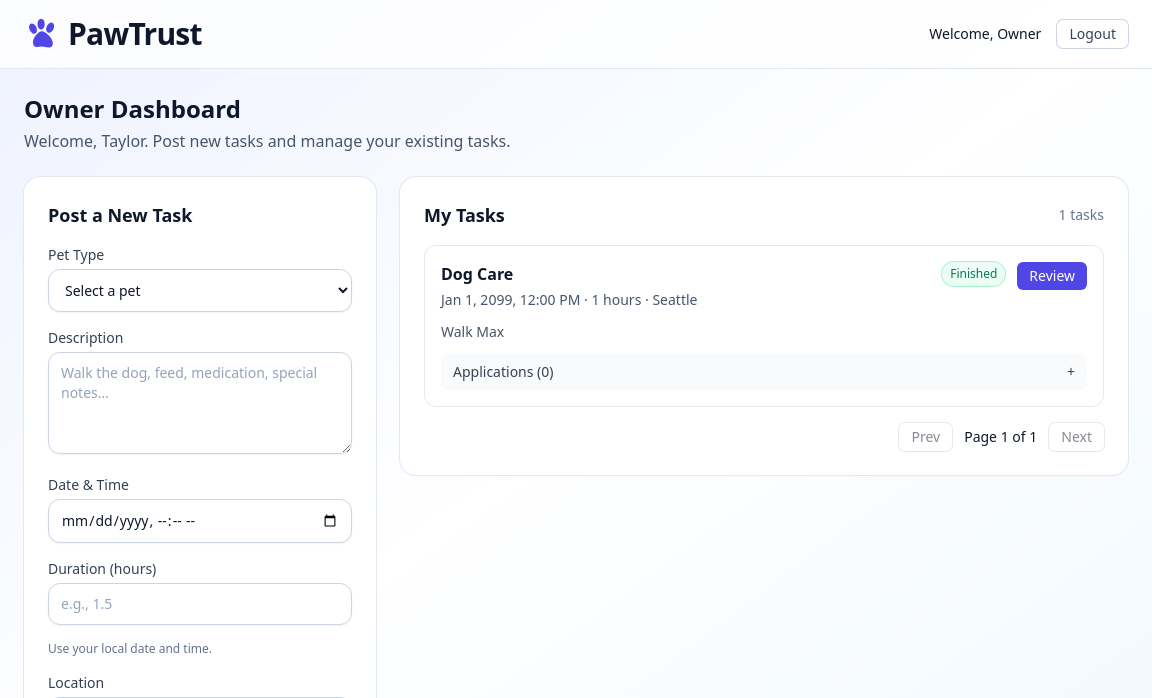
it: posts the review from the owner dashboard and refetches to show Reviewed
Click the button "Review".
click(1052, 276)  # box [1017,262,1087,290]
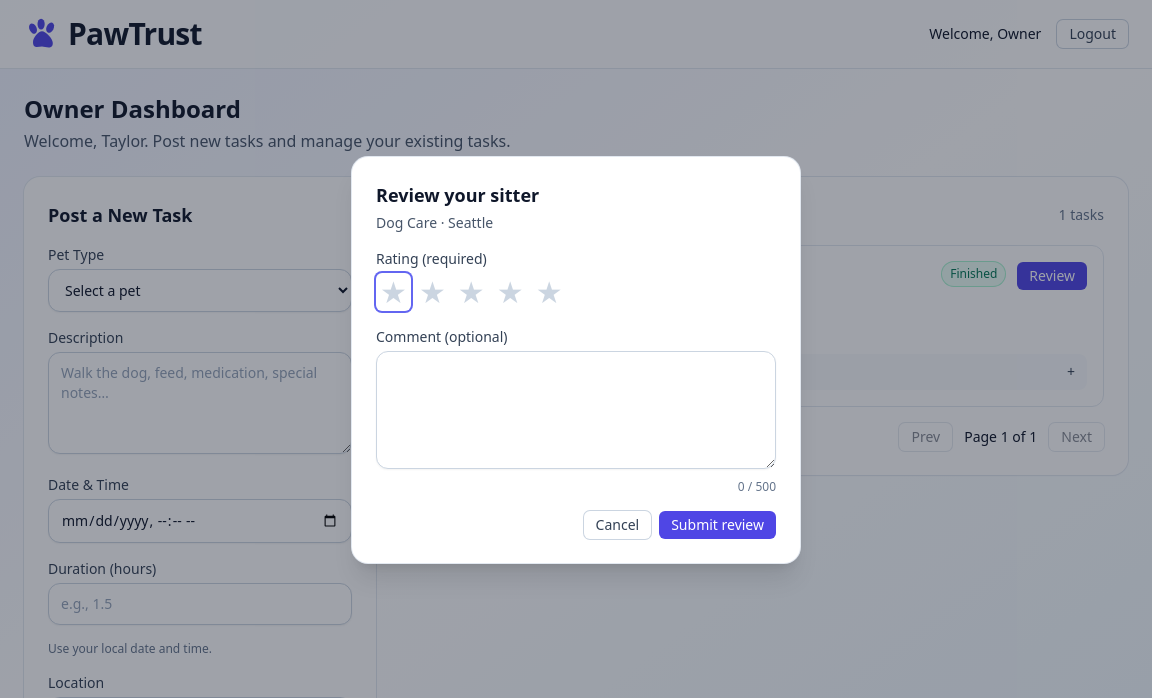
Click the radio button named "3 of 5 stars".
click(471, 292)  # box [458,271,485,312]
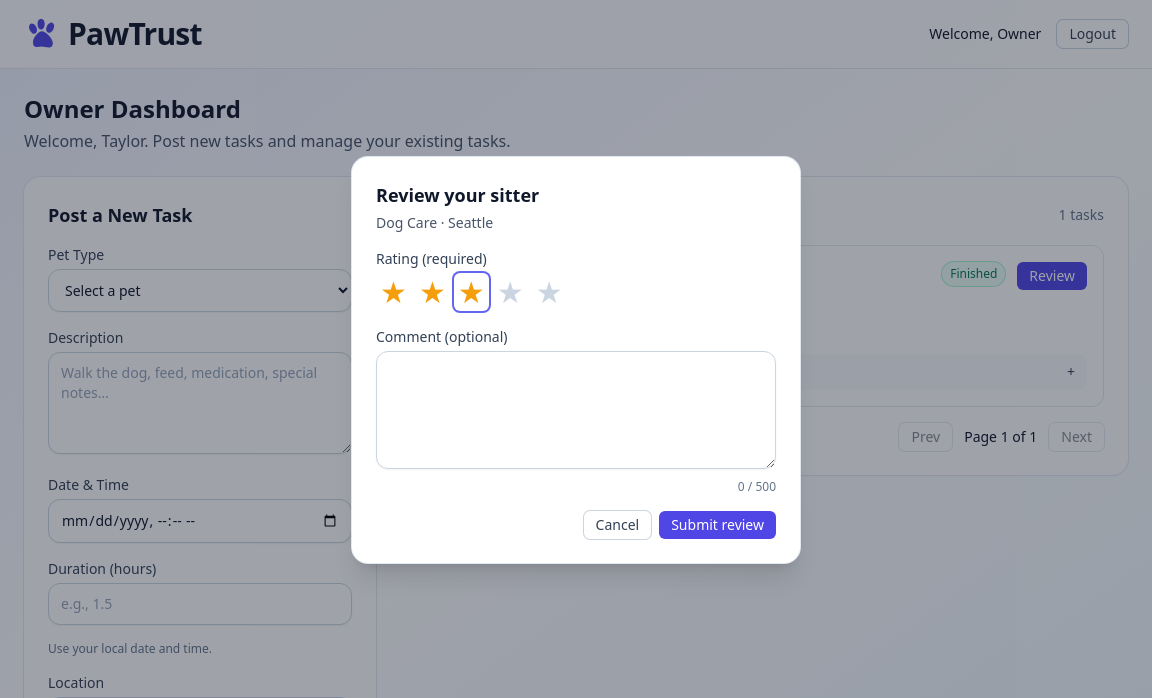
Click the button "Submit review".
click(718, 525)  # box [659,511,776,539]
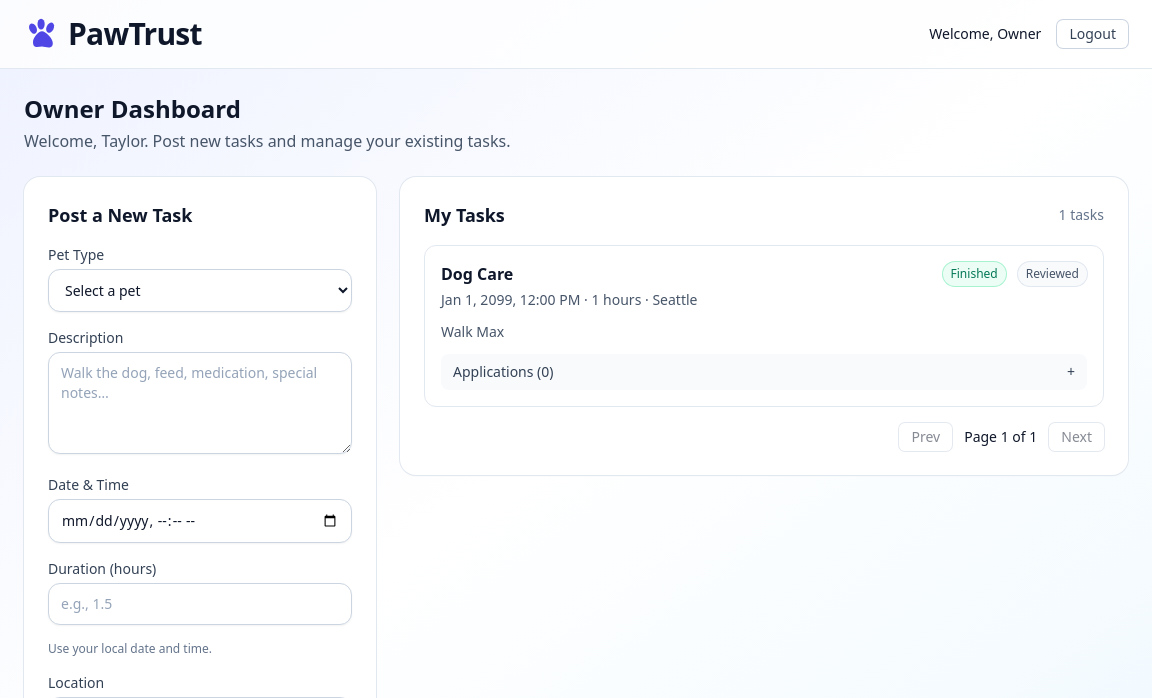
Now the text "Reviewed" is shown, box [1018,262,1087,286]
Now the dialog is gone
